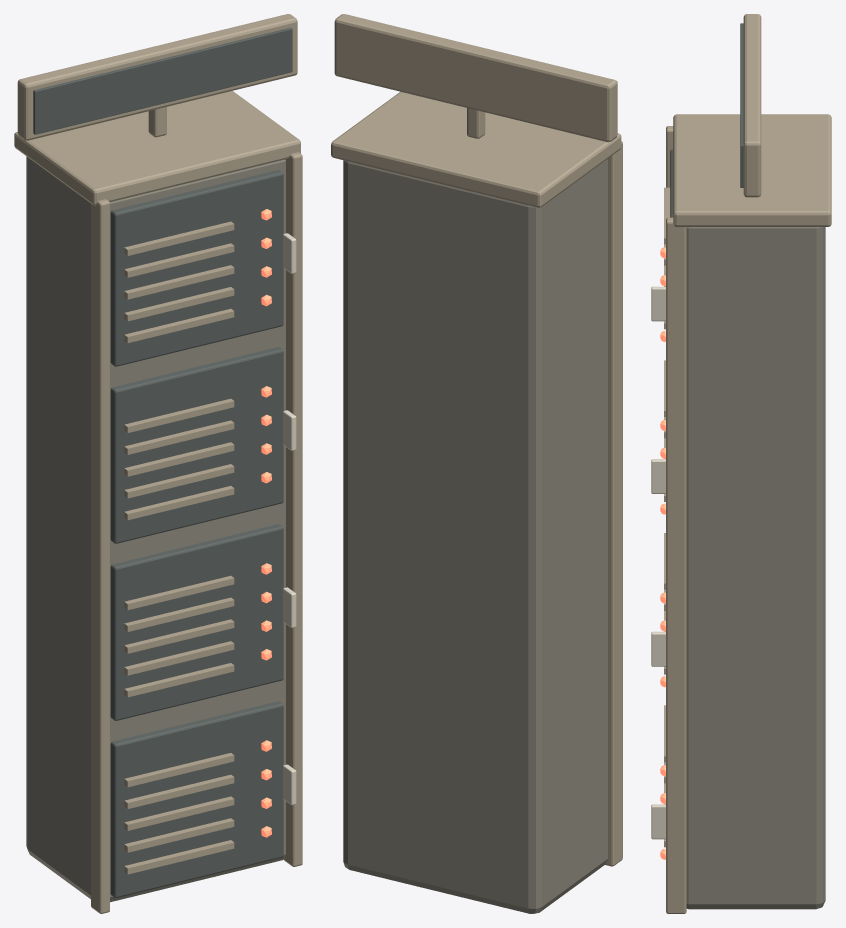
File: common_quota_wall_blocked.glb
The picture shows the model from 3 angles, left to right: view 1: azimuth 30°, elevation 25°; view 2: azimuth 150°, elevation 25°; view 3: azimuth 270°, elevation 25°; orthographic projection. The views are drawn at different scales.
Visible parts, largest first — view 1: common_quota_wall_blocked__common-dark-timber, common_quota_wall_blocked__common-brushed-brass, common_quota_wall_blocked__common-sage, common_quota_wall_blocked__common-ivory, common_quota_wall_blocked__common-status-blocked; view 2: common_quota_wall_blocked__common-sage, common_quota_wall_blocked__common-brushed-brass; view 3: common_quota_wall_blocked__common-sage, common_quota_wall_blocked__common-brushed-brass, common_quota_wall_blocked__common-ivory, common_quota_wall_blocked__common-dark-timber, common_quota_wall_blocked__common-status-blocked.
Boxes of the visible parts, x1,y1,x2,y2 form: common_quota_wall_blocked__common-dark-timber: (33, 27, 292, 897); common_quota_wall_blocked__common-brushed-brass: (14, 14, 302, 913); common_quota_wall_blocked__common-sage: (26, 156, 285, 902); common_quota_wall_blocked__common-ivory: (283, 233, 296, 804); common_quota_wall_blocked__common-status-blocked: (261, 209, 271, 837); common_quota_wall_blocked__common-sage: (343, 158, 608, 913); common_quota_wall_blocked__common-brushed-brass: (331, 14, 622, 866); common_quota_wall_blocked__common-sage: (686, 227, 825, 909); common_quota_wall_blocked__common-brushed-brass: (664, 14, 831, 913); common_quota_wall_blocked__common-ivory: (651, 286, 665, 839); common_quota_wall_blocked__common-dark-timber: (670, 23, 743, 217); common_quota_wall_blocked__common-status-blocked: (660, 247, 665, 859).
Size of the model in its own units: 2.1 by 5.94 by 1.23.
